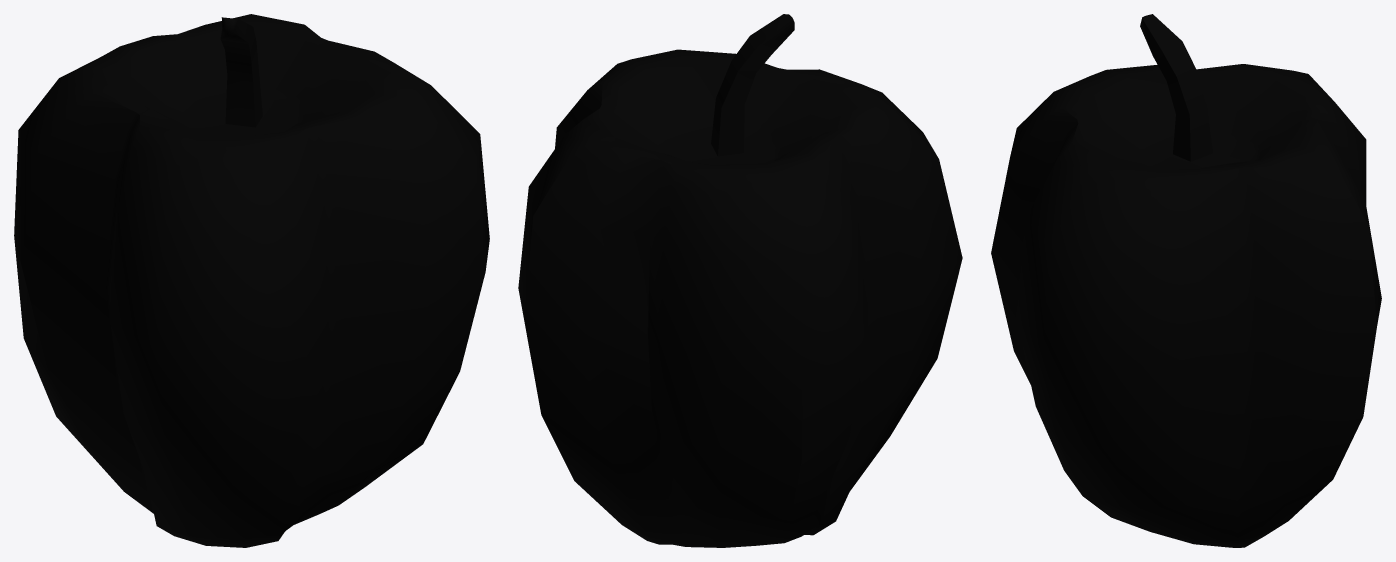
File: Pepper_3_Yellow.fbx
3 views of the same model, side by side, from view 1: azimuth 30°, elevation 25°; view 2: azimuth 150°, elevation 25°; view 3: azimuth 270°, elevation 25° (orthographic). The views are drawn at different scales.
Visible parts, largest first — view 1: Pepper_3_Yellow; view 2: Pepper_3_Yellow; view 3: Pepper_3_Yellow.
Boxes of the visible parts, <box> form: Pepper_3_Yellow: <box>14,14,489,547</box>; Pepper_3_Yellow: <box>518,14,962,547</box>; Pepper_3_Yellow: <box>991,14,1381,547</box>.
Size of the model in its own units: 2.84 by 3.73 by 2.72.
